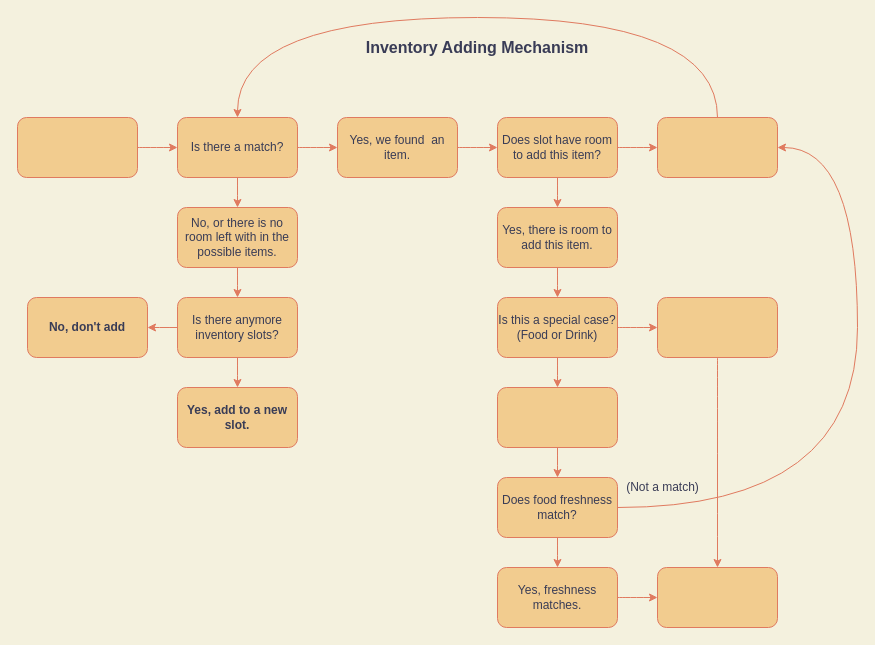
Some shapes in this 875 by 645 pixel diagram are drawn without their labels. The centre of each missing label's shape, as x and y in pixels:
"Add the item to this slot." belongs at point (717, 597).
"Item" belongs at point (77, 147).
"No, not a special case." belongs at point (717, 327).
"No, then continue trying." belongs at point (717, 147).
"Yes, this is a special case." belongs at point (557, 417).
